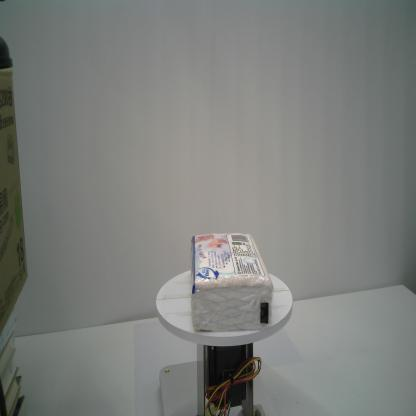Tissue: (189, 231, 274, 334)
